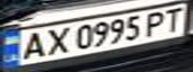0: (72, 21, 96, 51)
5: (124, 12, 148, 41)
9: (106, 16, 130, 45), (90, 19, 112, 47)
A: (15, 29, 51, 61)
P: (139, 9, 172, 37)
T: (157, 6, 190, 33)
X: (39, 25, 72, 56)
